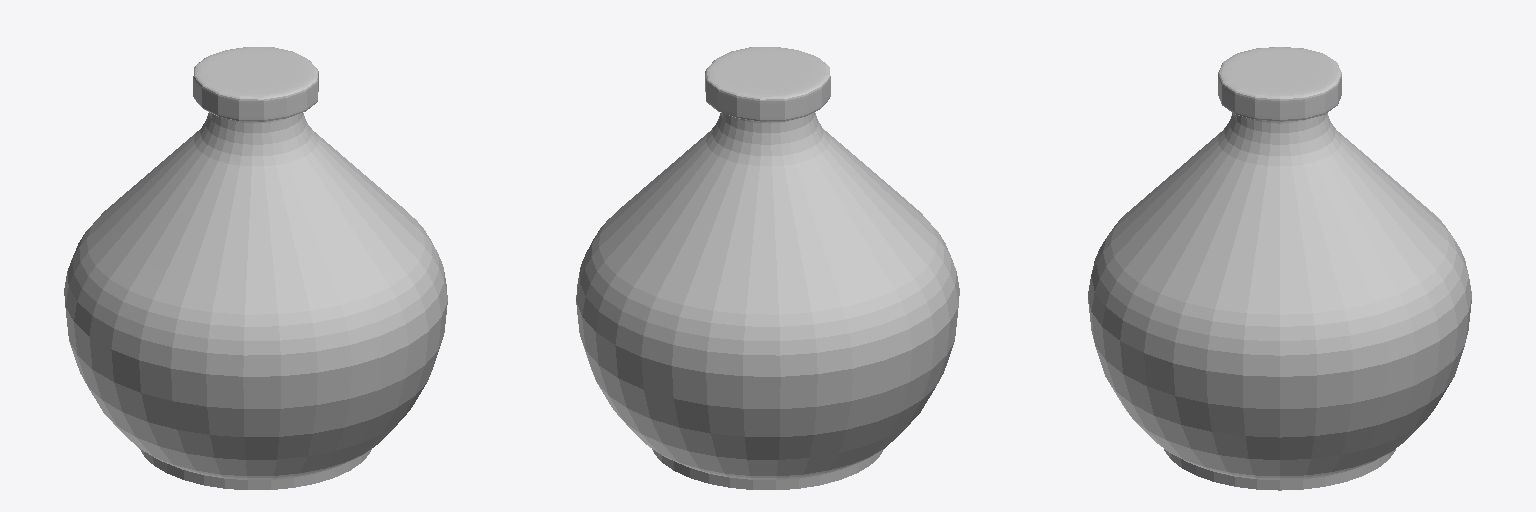
File: SetA_PotionBottle_Style_01.mtl.obj
3 views of the same model, side by side, from view 1: azimuth 30°, elevation 25°; view 2: azimuth 150°, elevation 25°; view 3: azimuth 270°, elevation 25° (orthographic).
Visible parts, largest first — view 1: SetA_PotionBottle_Style_01; view 2: SetA_PotionBottle_Style_01; view 3: SetA_PotionBottle_Style_01.
Boxes of the visible parts, x1,y1,x2,y2 form: SetA_PotionBottle_Style_01: [64, 47, 447, 489]; SetA_PotionBottle_Style_01: [576, 47, 959, 489]; SetA_PotionBottle_Style_01: [1088, 47, 1471, 490].
Size of the model in its own units: 0.074 by 0.0784 by 0.074.